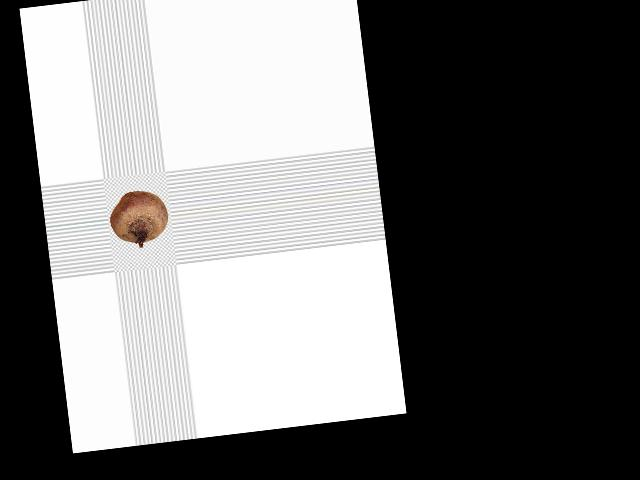beet: (107, 188, 170, 251)
